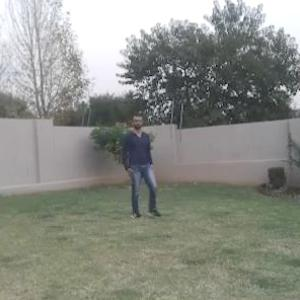follow: (124, 112, 153, 212)
